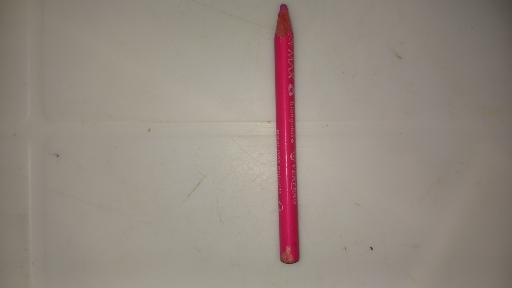Pencil: (274, 3, 300, 265)
